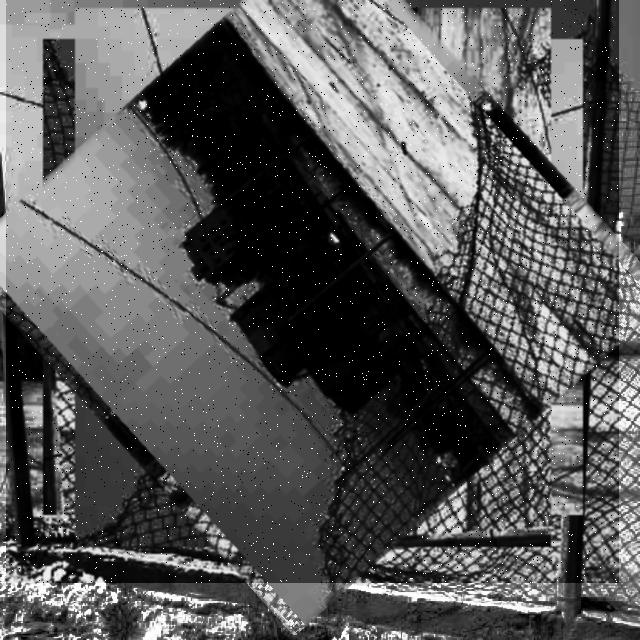anomaly-fence: (6, 0, 619, 583)
